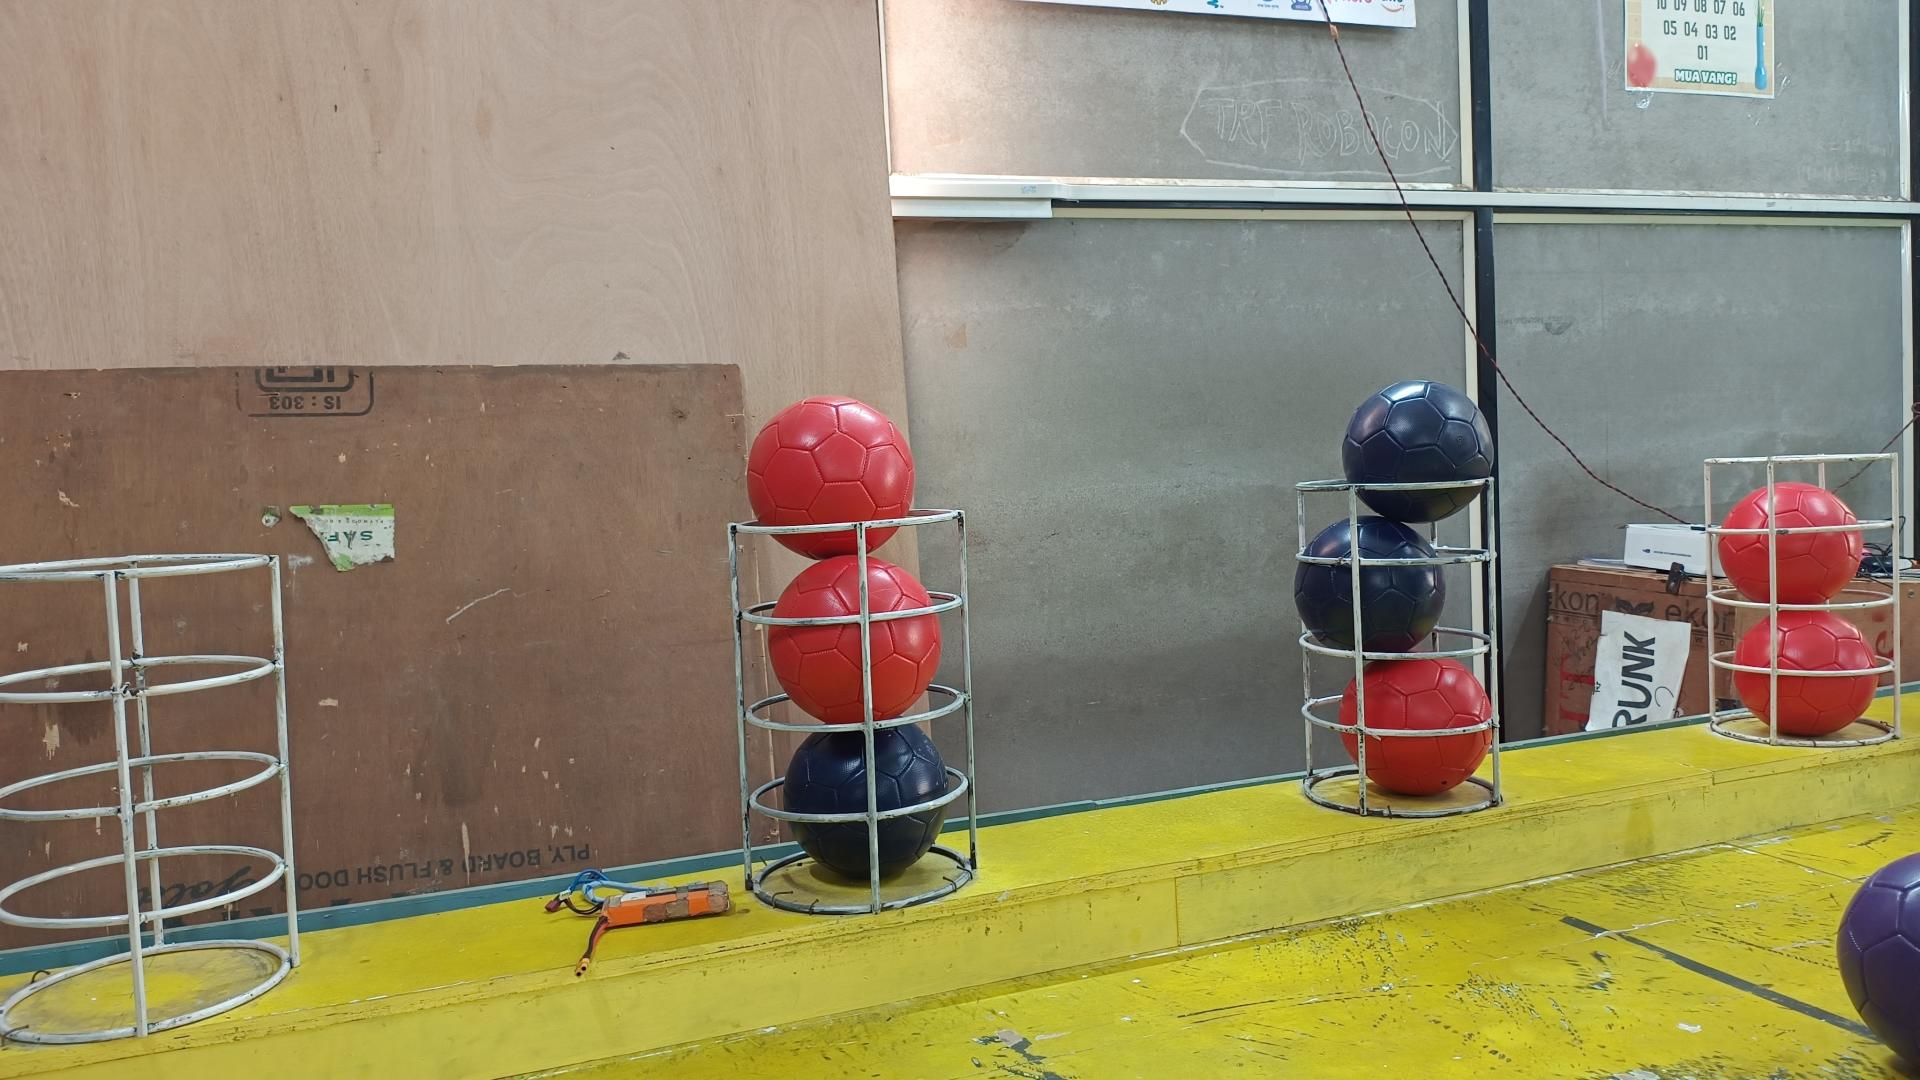dhoka: (781, 724, 952, 885), (1342, 378, 1493, 525), (1294, 514, 1448, 653)
laale: (769, 555, 942, 724), (746, 397, 915, 559), (1338, 657, 1493, 795), (1733, 612, 1879, 738), (1717, 480, 1863, 604)
